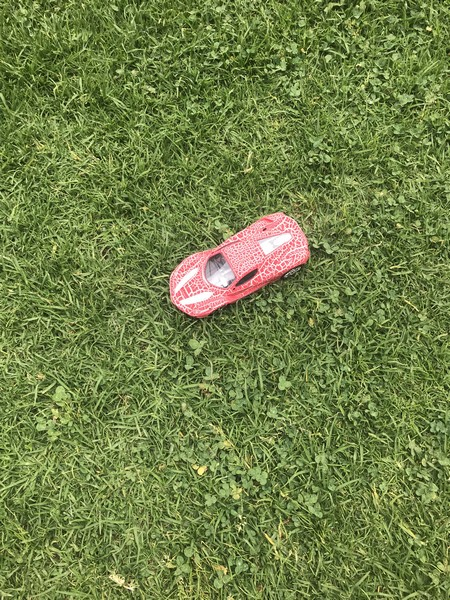RC: (166, 211, 314, 323)
